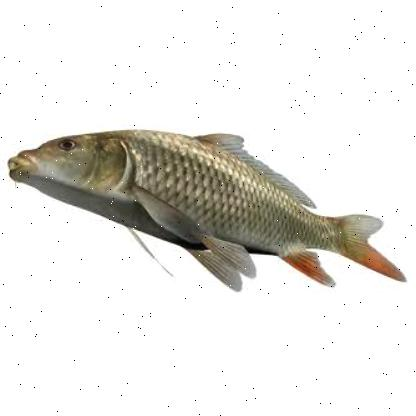ikan-mas: (8, 126, 406, 286)
